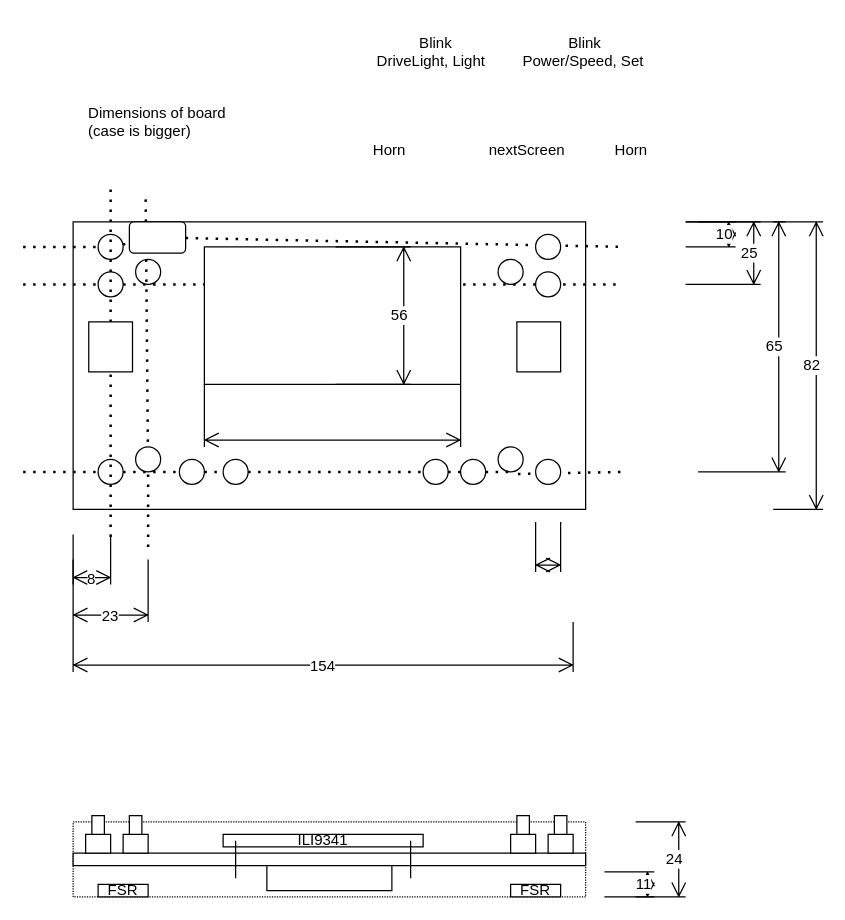
The diagram is 845 pixels wide and 920 high, and some of its shapes have lost their labels. Each missing label, with the centre of its shape:
"15dPin" goes at pixel 157 237.
"88 Distance Pin rows: 83.5" goes at pixel 332 415.
"d12" goes at pixel 547 546.
"PCF8574 (2x) & ADS1115" goes at pixel 329 877.
